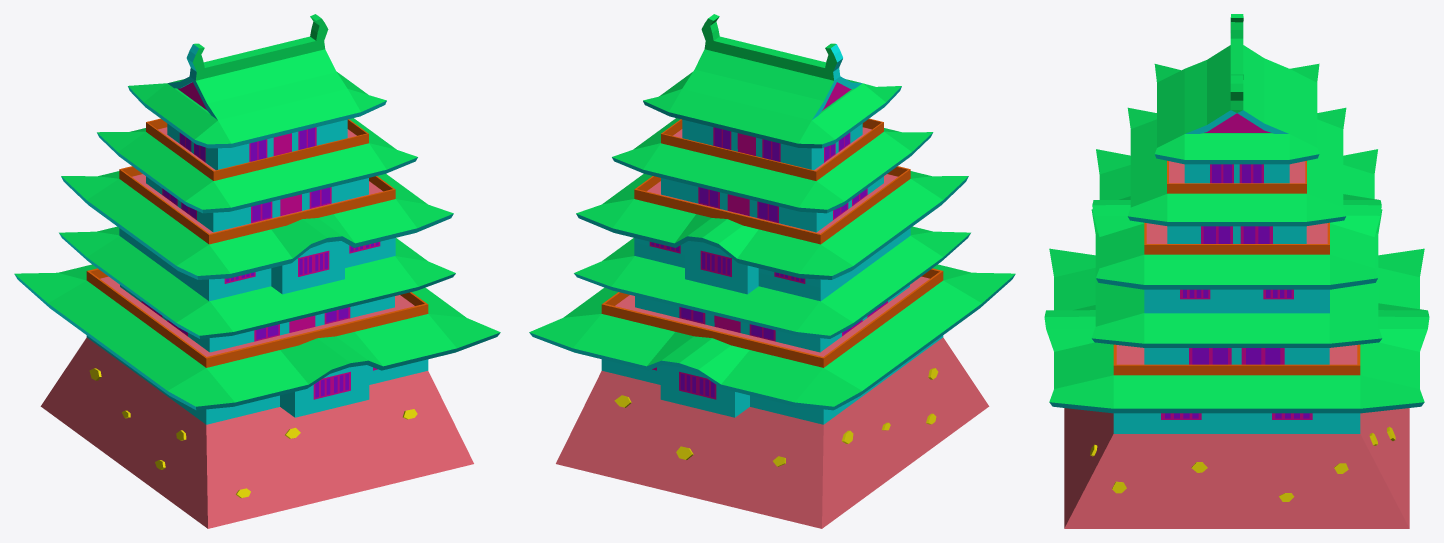
File: decoration-castle-japan.fbx
The picture shows the model from 3 angles, left to right: view 1: azimuth 30°, elevation 25°; view 2: azimuth 150°, elevation 25°; view 3: azimuth 270°, elevation 25°; orthographic projection. The views are drawn at different scales.
Parts seen in each view (by area): view 1: decoration-castle-japan; view 2: decoration-castle-japan; view 3: decoration-castle-japan.
Boxes of the visible parts, left/top/right/bottom form: decoration-castle-japan: left=14, top=14, right=500, bottom=528; decoration-castle-japan: left=529, top=14, right=1015, bottom=528; decoration-castle-japan: left=1044, top=14, right=1429, bottom=528.
Size of the model in its own units: 23.58 by 29.85 by 24.98.
